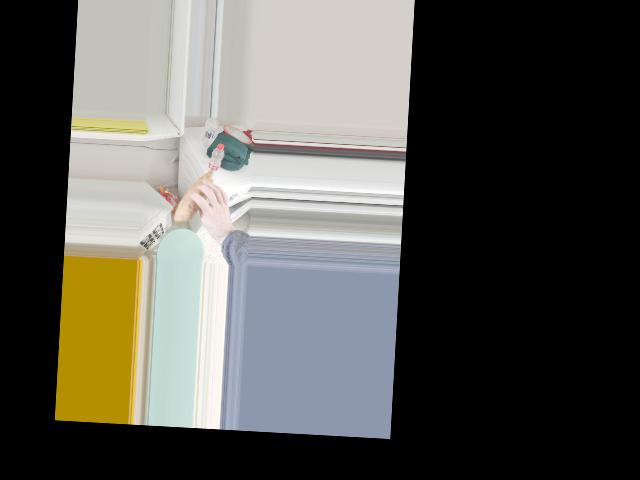sweet_potato: (175, 170, 220, 216)
